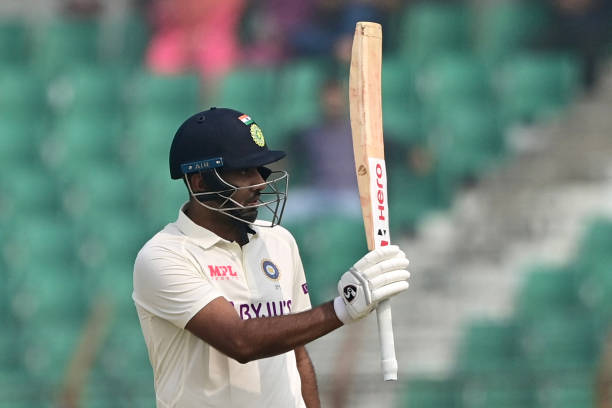bottom left: (350, 14, 369, 37)
bottom right: (374, 16, 390, 41)
top left: (360, 236, 383, 255)
